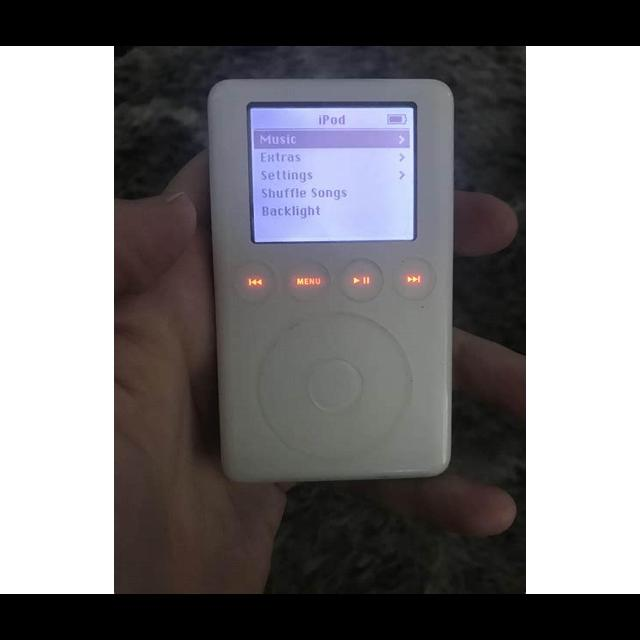Music-Player: (198, 73, 470, 494)
